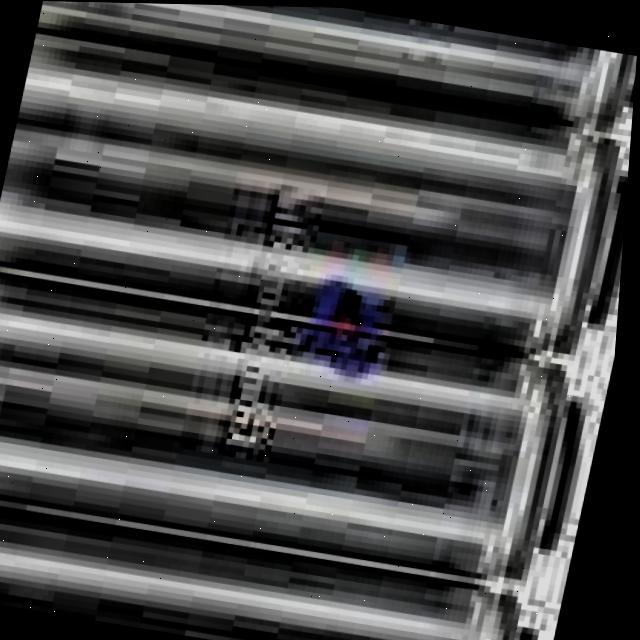metal: (0, 31, 638, 381), (0, 264, 623, 602), (27, 1, 640, 143), (0, 490, 577, 640)
